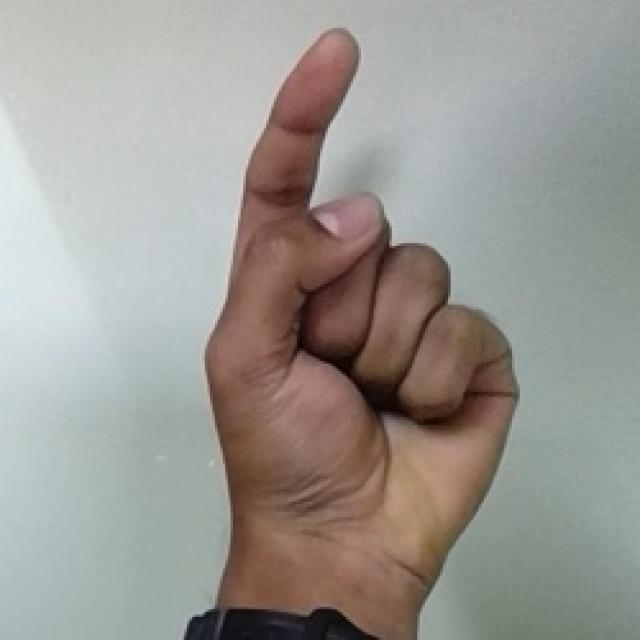Numeric-1: (211, 26, 515, 575)
